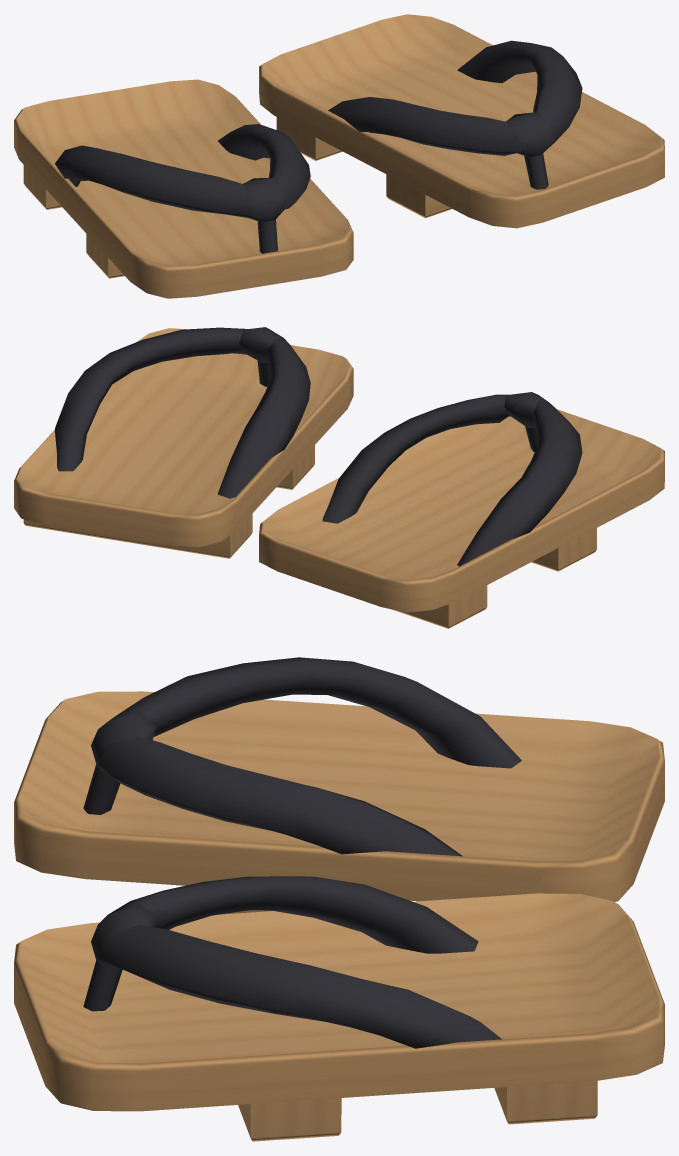
The model's file is ShoesSandalGeta0.glb.
3 views of the same model, one above another, from view 1: azimuth 30°, elevation 25°; view 2: azimuth 150°, elevation 25°; view 3: azimuth 270°, elevation 25° (orthographic). The views are drawn at different scales.
Parts seen in each view (by area): view 1: Body__mShoes; view 2: Body__mShoes; view 3: Body__mShoes.
Part boxes in pixels (<box>): Body__mShoes: <box>14,14,664,298</box>; Body__mShoes: <box>14,327,664,628</box>; Body__mShoes: <box>14,657,664,1141</box>.
Bounding box in the file's own units: 3.37 × 0.6485 × 2.46.
Materials: 1 (1 with a texture image).
